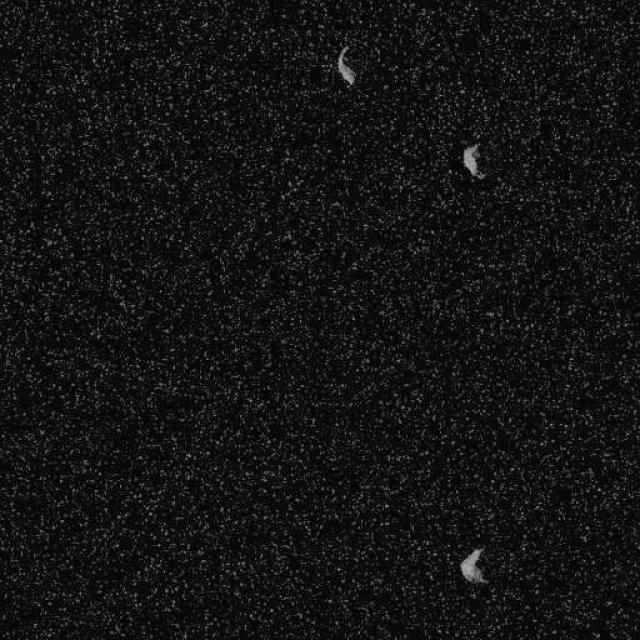D2: (459, 545, 489, 584), (460, 141, 485, 180), (335, 44, 356, 85)
